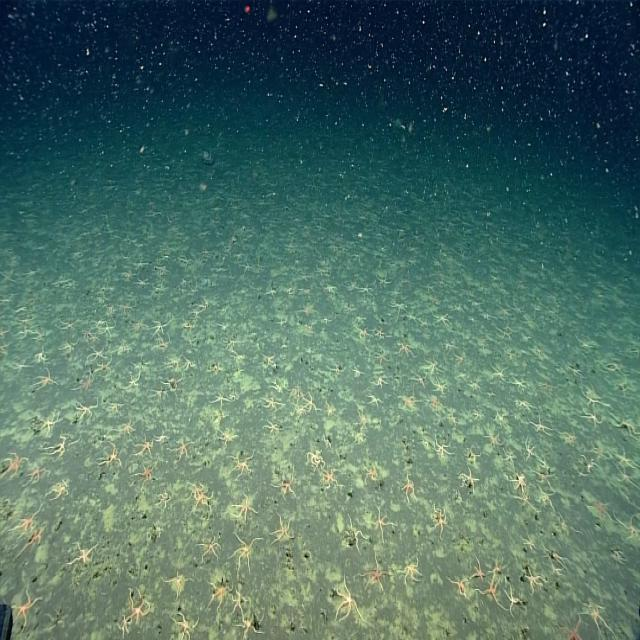brittle-stars: (336, 577, 361, 623), (13, 586, 39, 628), (13, 504, 42, 536), (364, 551, 387, 591), (18, 526, 46, 558), (582, 599, 610, 630), (206, 581, 232, 613), (371, 503, 392, 540), (128, 589, 151, 622), (480, 573, 502, 606), (234, 535, 256, 567), (348, 514, 367, 551), (72, 540, 94, 569), (272, 513, 294, 542), (275, 470, 296, 500), (173, 611, 199, 635), (505, 584, 522, 619), (238, 612, 260, 639), (582, 389, 610, 410), (234, 492, 255, 520), (616, 515, 640, 539), (4, 450, 26, 476), (200, 536, 222, 562), (100, 441, 122, 467), (230, 588, 248, 618), (401, 556, 420, 584), (560, 616, 582, 640), (170, 571, 189, 598), (230, 452, 252, 475), (49, 478, 70, 502), (582, 406, 603, 430), (524, 566, 543, 592), (616, 446, 638, 468), (402, 474, 418, 504), (434, 435, 454, 459), (320, 466, 340, 490), (36, 368, 55, 393), (26, 464, 47, 486), (530, 414, 553, 434), (594, 498, 612, 523), (537, 486, 554, 512), (77, 399, 98, 420), (617, 469, 639, 489), (50, 436, 68, 460), (461, 467, 478, 492), (521, 529, 537, 554), (136, 462, 156, 482), (592, 442, 611, 462), (40, 410, 58, 431), (426, 391, 441, 416), (557, 514, 574, 536), (306, 448, 324, 468), (196, 490, 214, 510), (136, 434, 152, 456), (213, 392, 235, 407), (422, 355, 439, 374), (187, 480, 204, 499), (165, 353, 182, 372), (472, 559, 486, 582), (452, 575, 466, 598), (433, 509, 447, 532), (365, 461, 379, 483), (491, 364, 509, 381), (96, 357, 113, 375), (150, 319, 168, 336), (488, 429, 504, 448), (216, 426, 232, 445), (432, 376, 447, 396), (402, 391, 417, 411), (175, 439, 190, 459), (79, 372, 94, 392), (397, 340, 414, 357), (262, 396, 280, 412), (304, 392, 317, 414), (513, 472, 528, 491), (525, 439, 537, 462), (538, 378, 555, 394), (99, 322, 116, 338), (154, 335, 170, 352), (563, 427, 577, 446), (121, 416, 134, 436), (376, 346, 389, 366), (116, 339, 132, 355), (367, 392, 382, 409), (376, 270, 390, 288), (158, 489, 170, 510), (434, 312, 449, 328), (265, 418, 280, 434), (128, 370, 141, 388), (120, 615, 132, 634), (512, 376, 527, 391), (516, 398, 533, 411), (453, 301, 466, 318), (494, 555, 506, 573), (300, 301, 314, 316), (36, 346, 47, 365), (494, 409, 506, 426), (223, 337, 240, 349), (503, 449, 516, 464), (414, 372, 426, 388), (291, 382, 303, 398), (184, 356, 196, 372), (325, 397, 335, 416), (498, 304, 511, 318), (359, 282, 372, 296), (61, 341, 75, 354), (391, 301, 406, 313), (155, 428, 167, 443), (346, 278, 358, 292), (357, 326, 369, 340), (423, 281, 435, 294), (264, 353, 276, 366), (135, 257, 148, 269), (156, 263, 168, 276), (472, 408, 483, 422), (90, 347, 104, 358), (352, 363, 362, 378), (242, 258, 252, 273), (315, 266, 328, 277), (375, 326, 385, 340), (377, 375, 385, 389), (83, 328, 92, 340), (277, 316, 286, 328), (136, 277, 148, 286)
